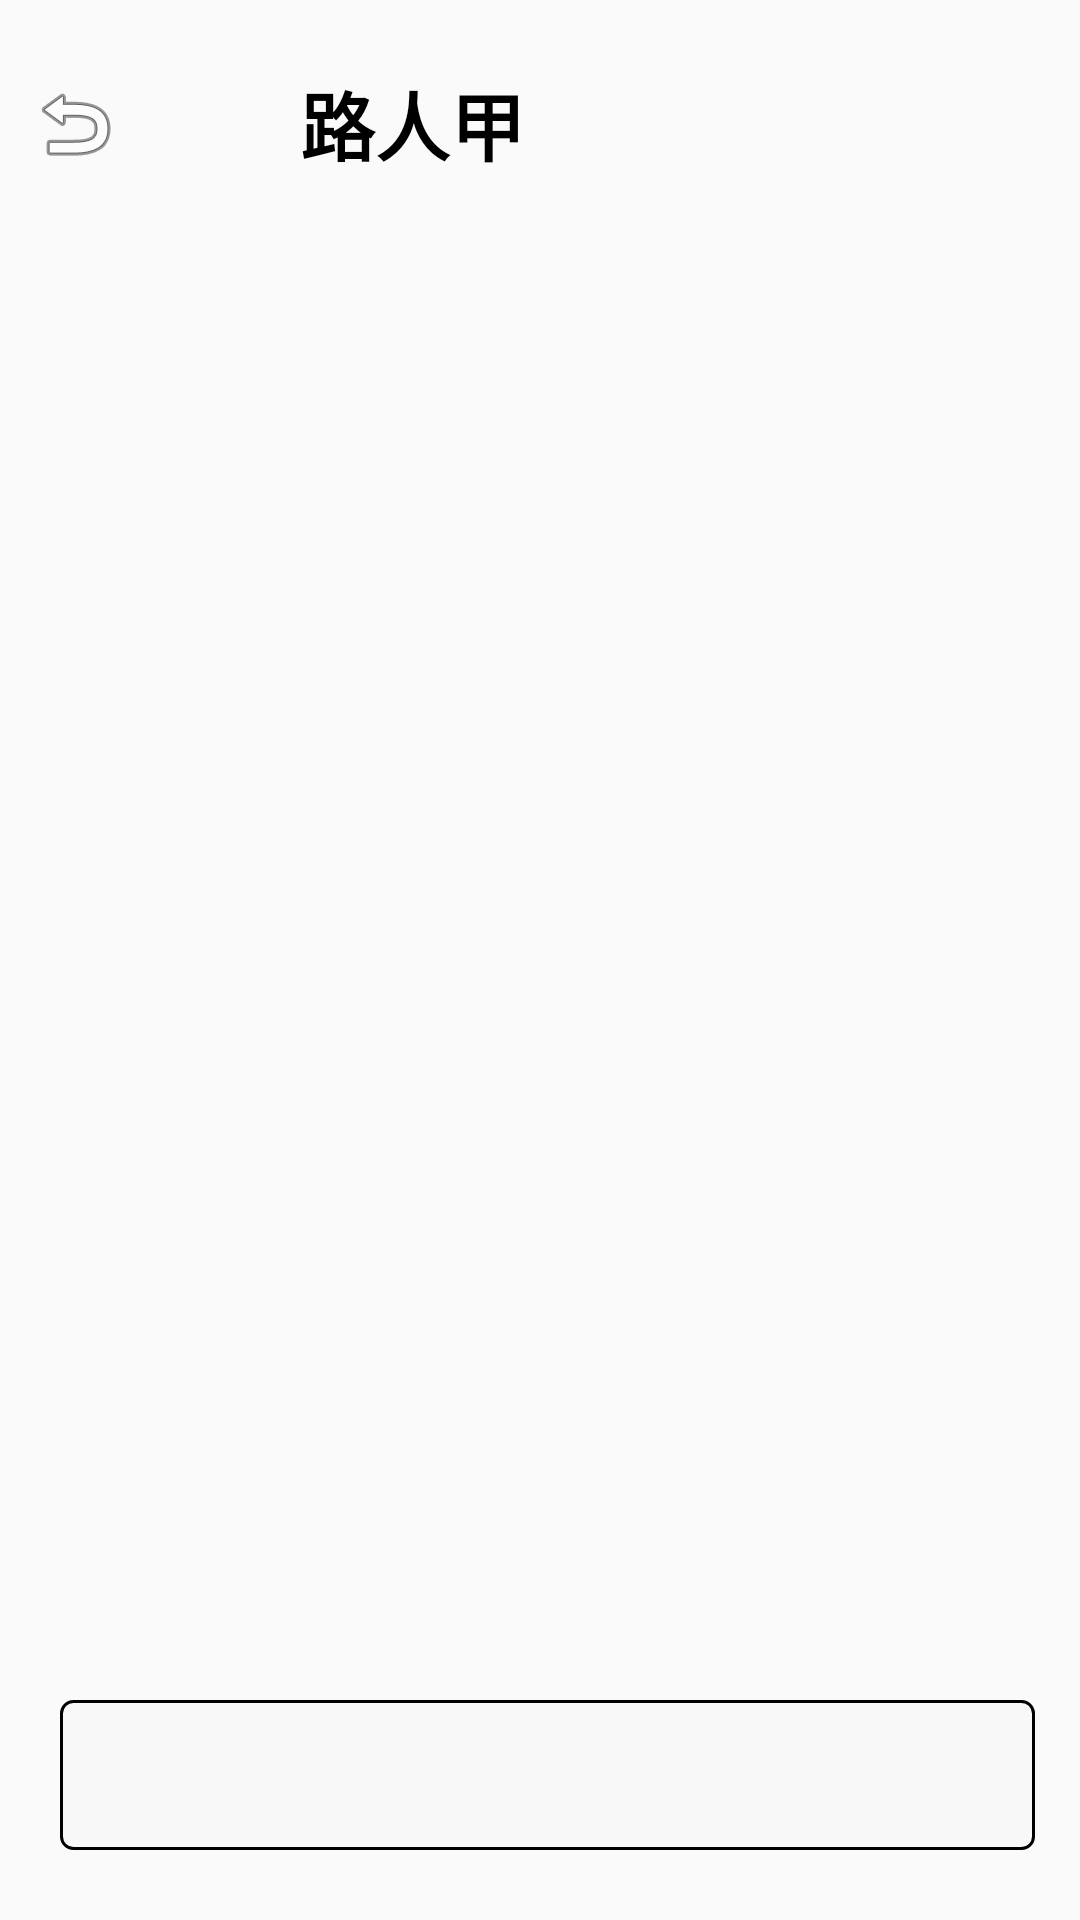

Icon click points for this 1080x1920 phone screenshot, format (x=x, y=y):
revert: (x=76, y=124)
